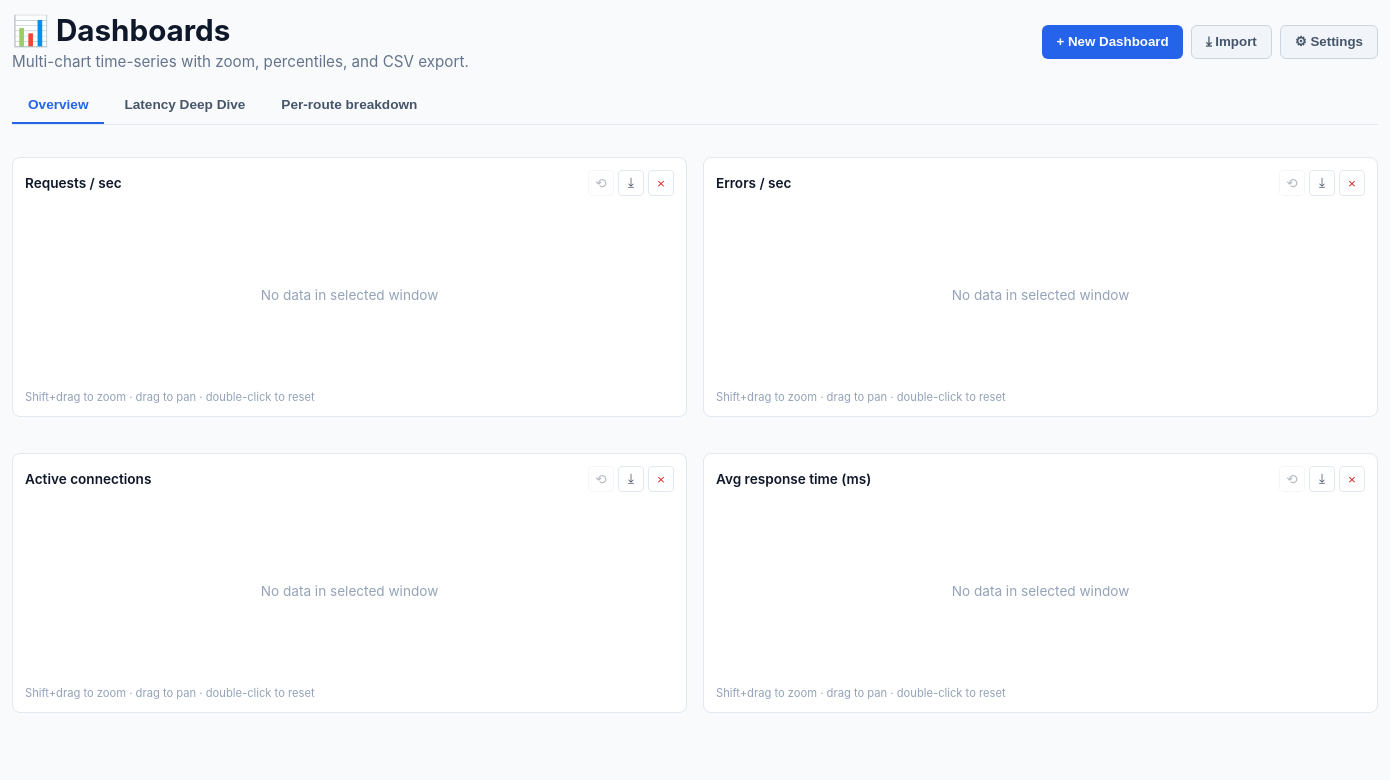
Scenario: DashboardsView › creates a new dashboard via the create bar
The width and height of the screenshot is (1390, 780).
Click the button "+ New Dashboard": [1113, 42] box [1042,24,1183,58]
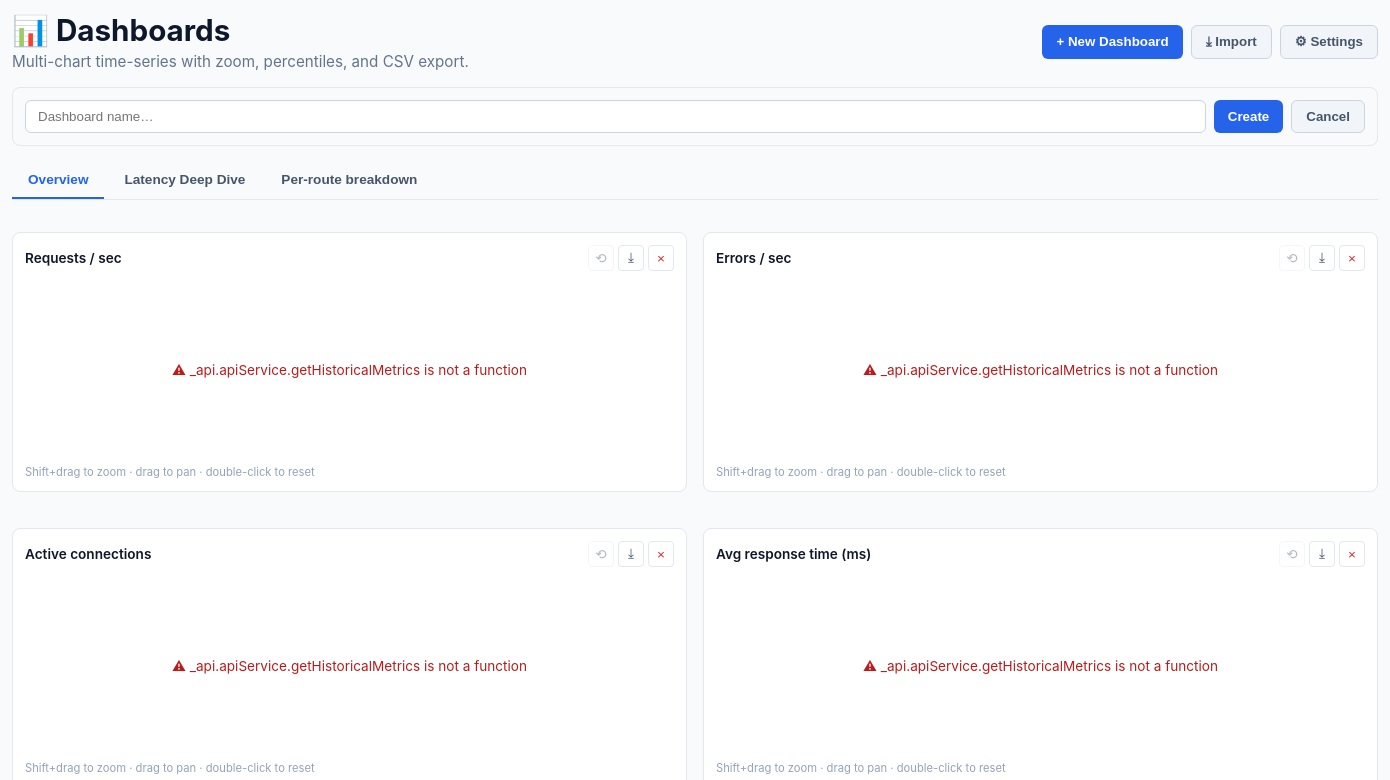
In the field with placeholder "Dashboard name…": [615, 116] box [25,100,1206,133], type "My New Dashboard"
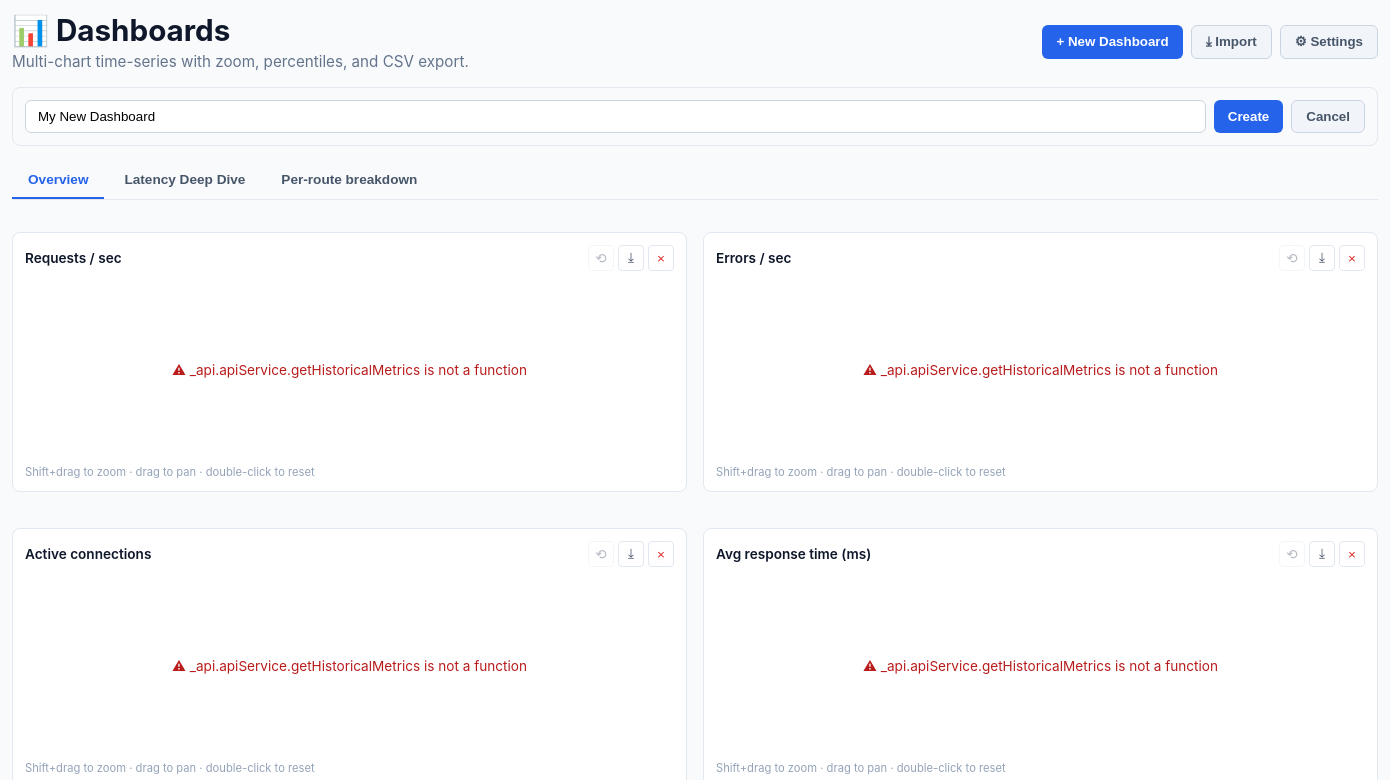
Click the button "Create": [1249, 116] box [1214,100,1283,133]
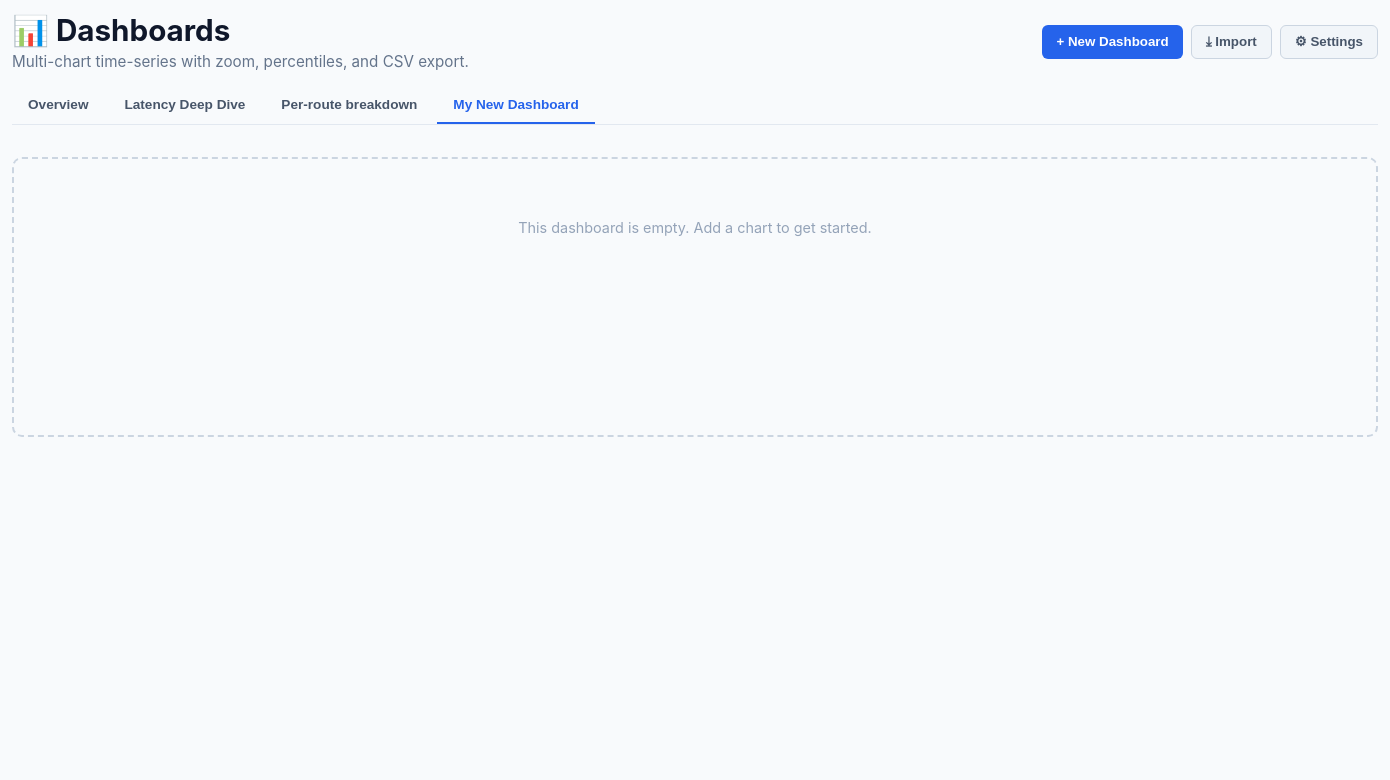
Check: the text "My New Dashboard" is shown, box [437,87,595,124]
